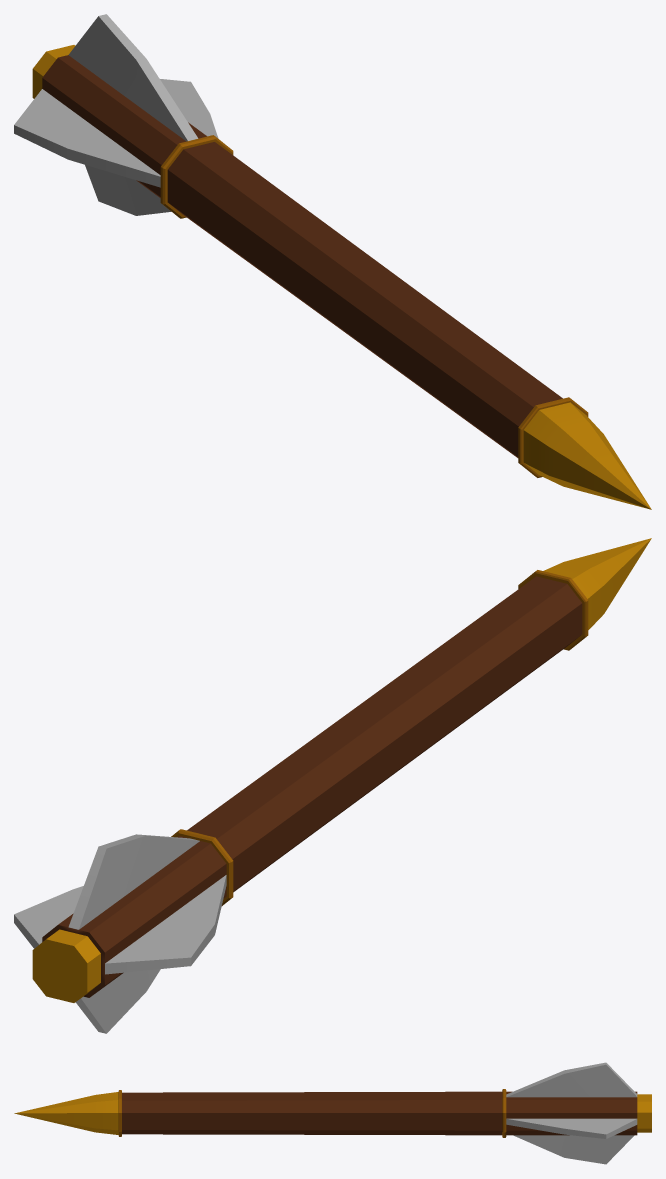
File: dart.fbx
3 renders of one model, top to bottom at view 1: azimuth 30°, elevation 25°; view 2: azimuth 150°, elevation 25°; view 3: azimuth 270°, elevation 25°, orthographic. The views are drawn at different scales.
Visible parts, largest first — view 1: pCube1; view 2: pCube1; view 3: pCube1.
Part boxes in pixels (x1,y1,x2,y2): pCube1: [14, 14, 651, 509]; pCube1: [14, 538, 651, 1033]; pCube1: [14, 1062, 651, 1164].
Size of the model in its own units: 1.32 by 1.32 by 7.64.
